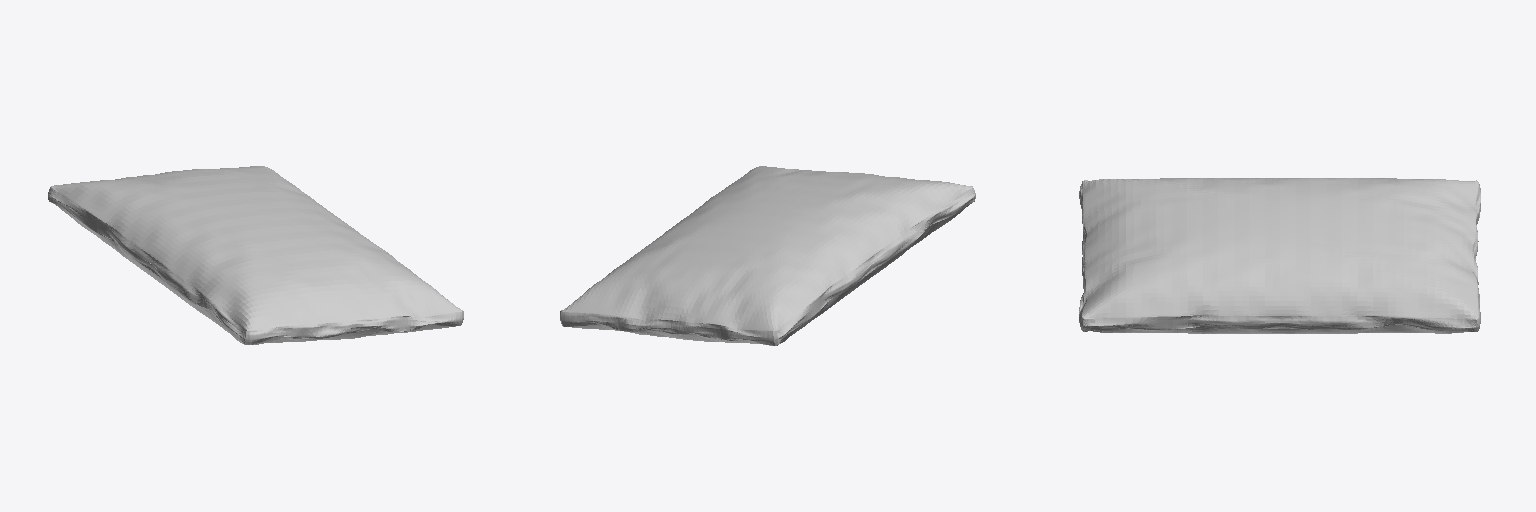
File: pillow.obj
3 views of the same model, side by side, from view 1: azimuth 30°, elevation 25°; view 2: azimuth 150°, elevation 25°; view 3: azimuth 270°, elevation 25° (orthographic).
Parts seen in each view (by area): view 1: Cube.003; view 2: Cube.003; view 3: Cube.003.
Boxes of the visible parts, x1=… form: Cube.003: x1=48, y1=166, x2=463, y2=344; Cube.003: x1=560, y1=166, x2=975, y2=345; Cube.003: x1=1079, y1=178, x2=1480, y2=333.
Bounding box in the file's own units: 0.8498 × 0.3226 × 1.34.